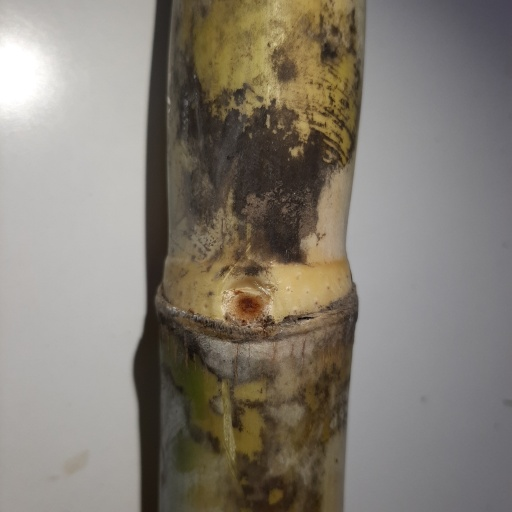Damage_Bud: (227, 290, 263, 323)
